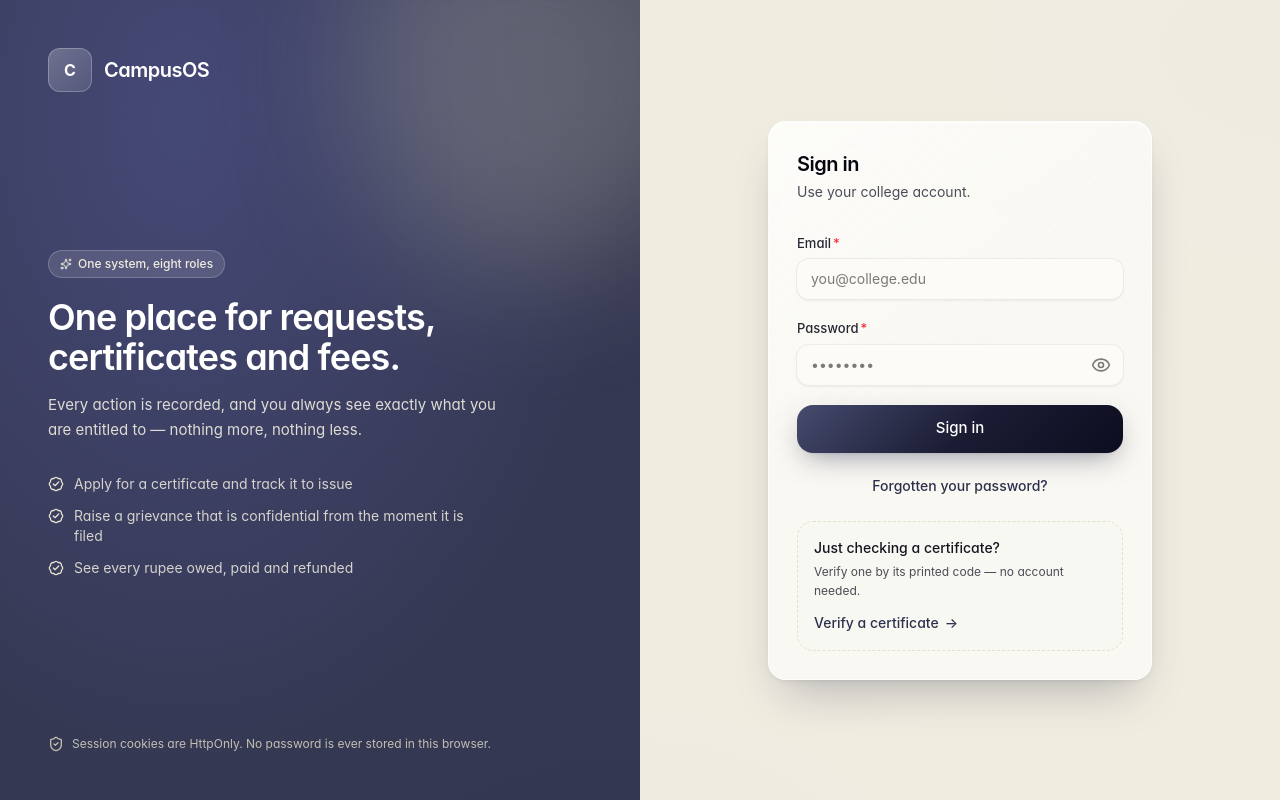
Test: sign in › reaches the dashboard after authenticating
Expected: the heading "Sign in" is shown, 797,152 -> 859,176
Type "demo.hod@campusos.local" into the field labelled "Email*" at (960, 279), box 797,259 -> 1123,299
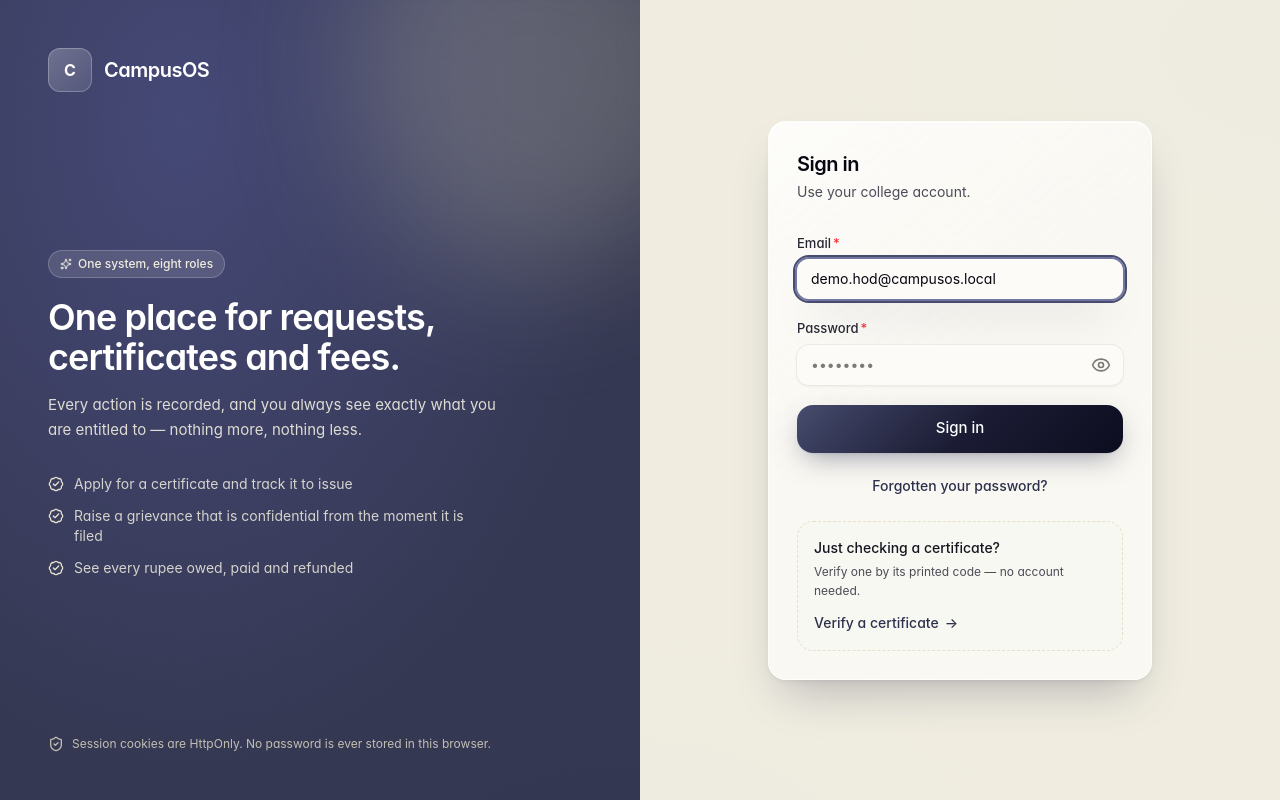
Type "Demo@Campus123" into the password field with test id "password-input" at (960, 364), box 797,344 -> 1123,384
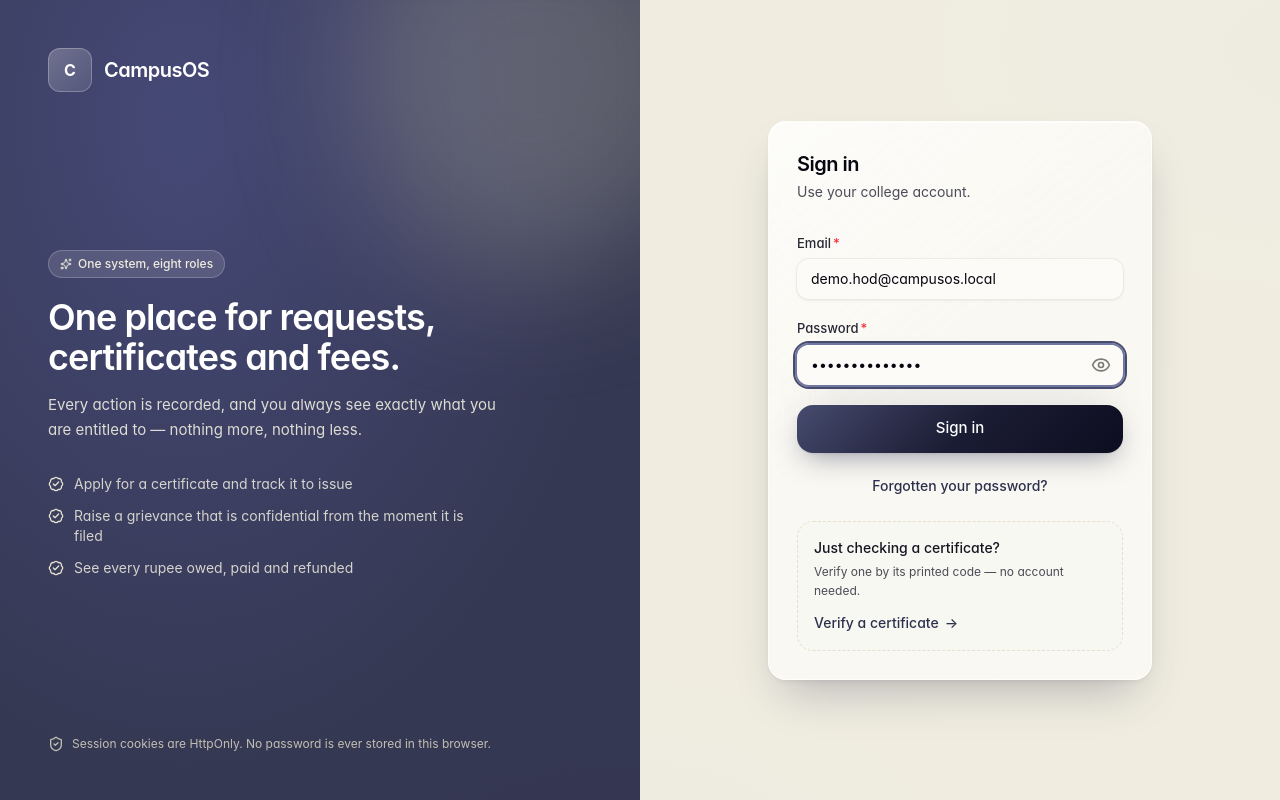
Click the button "Sign in" at (960, 428), box 797,404 -> 1123,452
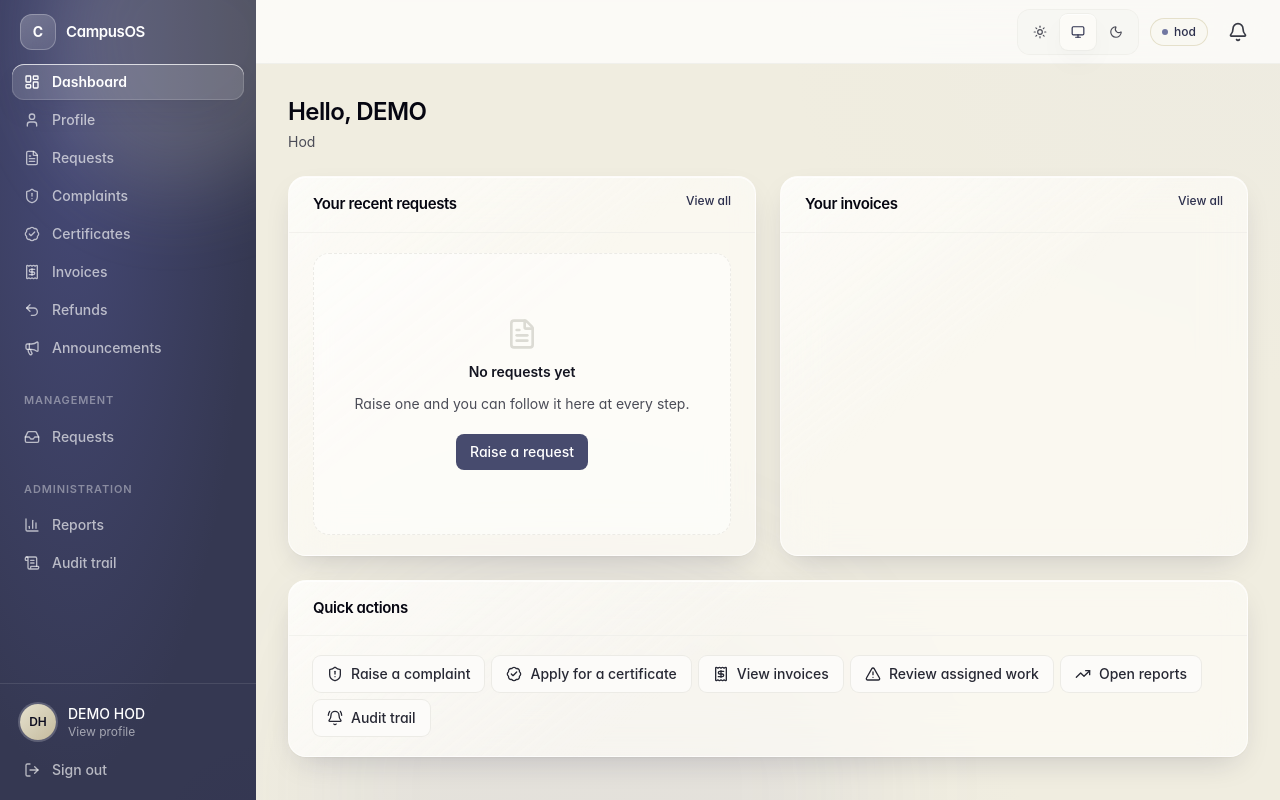
Now the heading "Hello, DEMO" is shown, box 288,97 -> 426,126
